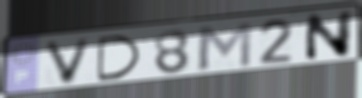2: (257, 18, 296, 66)
8: (152, 28, 192, 75)
D: (95, 33, 144, 83)
M: (194, 20, 254, 72)
N: (303, 9, 355, 64)
V: (42, 36, 95, 87)
